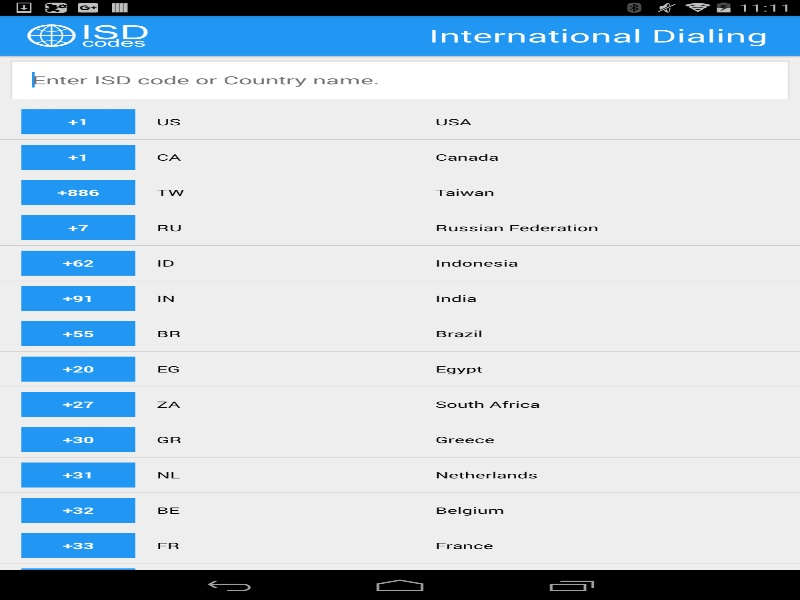Input: (10, 60, 789, 99)
